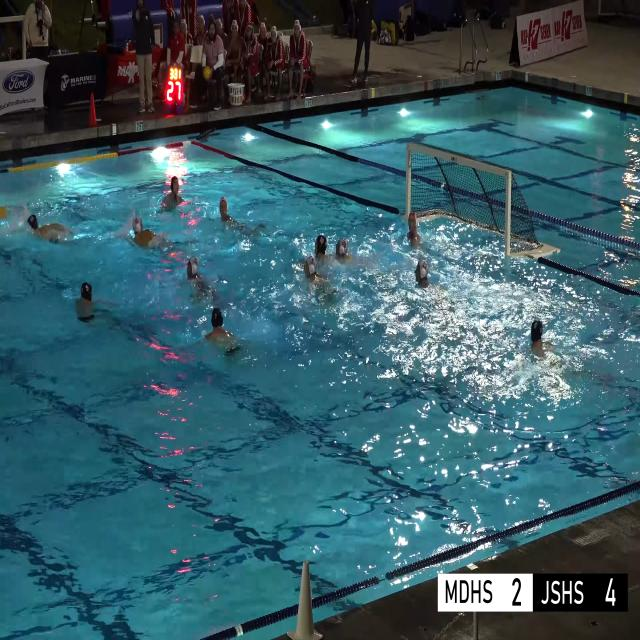ball: (203, 65, 211, 81), (0, 206, 6, 218)
